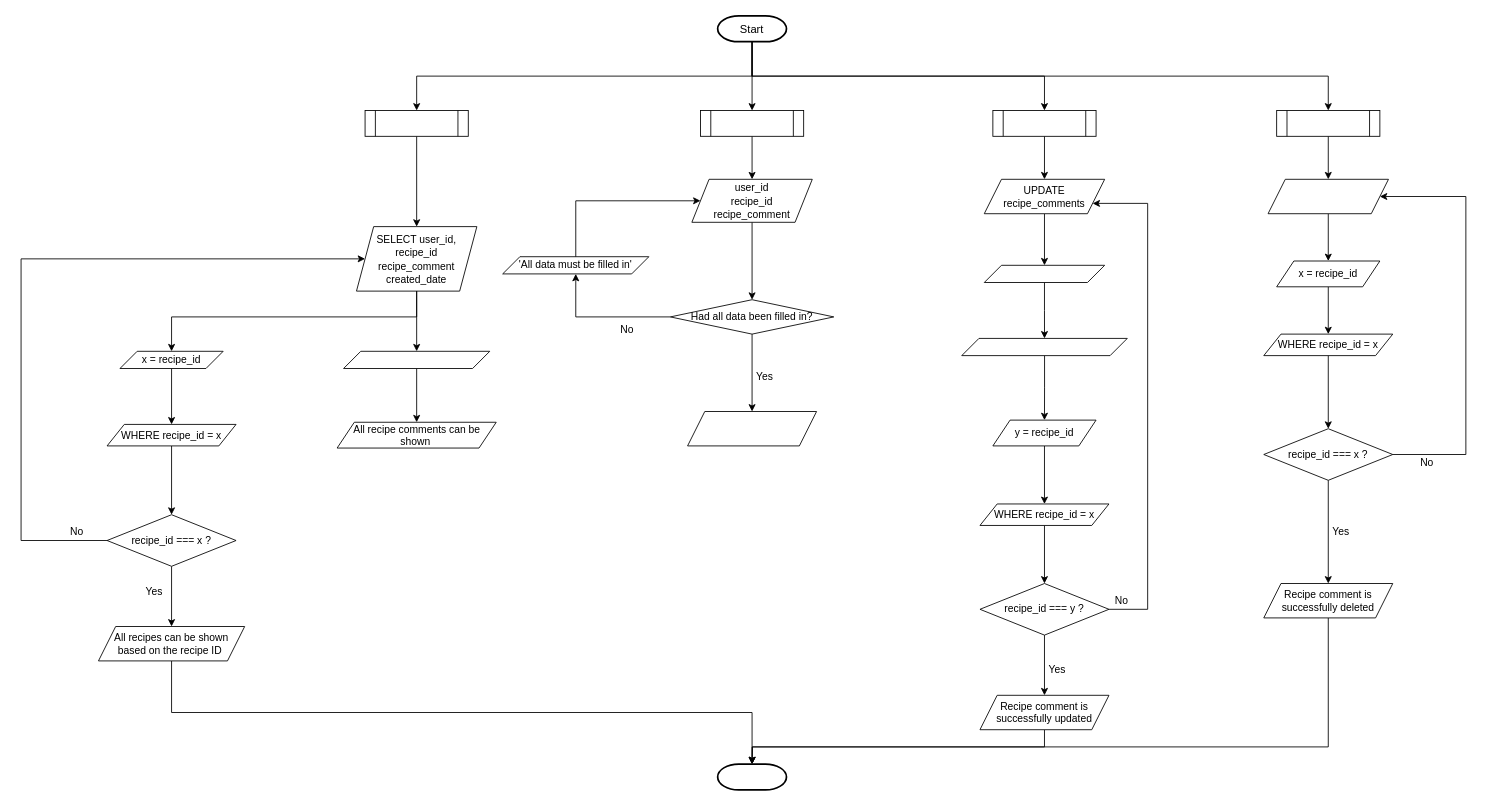
The diagram is 1488 pixels wide and 805 high, and some of its shapes have lost their labels. The box of each missing label's shape, as (x1, y1, x2, y2) in pixels:
DELETE: (1276, 110, 1380, 136)
DELETE recipe_comments: (1267, 178, 1388, 214)
End: (716, 763, 787, 790)
input x: (983, 264, 1105, 283)
INSERT: (700, 110, 804, 136)
ORDER BY id: (343, 350, 490, 369)
READ: (364, 110, 468, 136)
Recipe is successfully inserted: (687, 411, 817, 446)
SET recipe_comments = x: (961, 338, 1127, 356)
UPDATE: (992, 110, 1096, 136)
